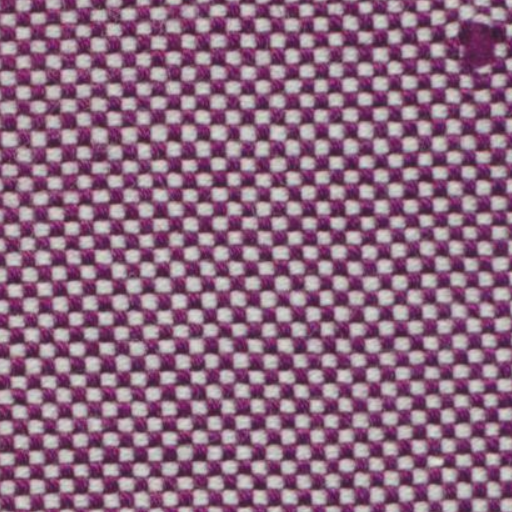MianQiu: (432, 15, 504, 82)
